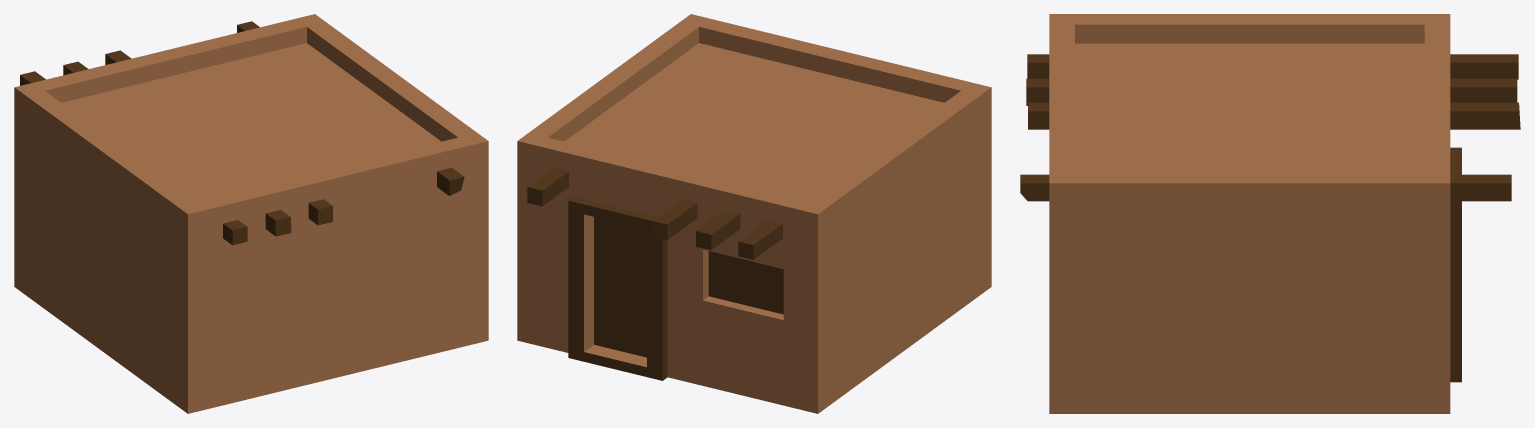
The model's file is Hut.fbx.
3 views of the same model, side by side, from view 1: azimuth 30°, elevation 25°; view 2: azimuth 150°, elevation 25°; view 3: azimuth 270°, elevation 25° (orthographic). The views are drawn at different scales.
Visible parts, largest first — view 1: Cube.001_Cube.003; view 2: Cube.001_Cube.003; view 3: Cube.001_Cube.003.
Boxes of the visible parts, <box> form: Cube.001_Cube.003: <box>14,14,488,413</box>; Cube.001_Cube.003: <box>517,14,991,413</box>; Cube.001_Cube.003: <box>1020,14,1520,413</box>.
Size of the model in its own units: 11.81 by 7.5 by 14.74.
